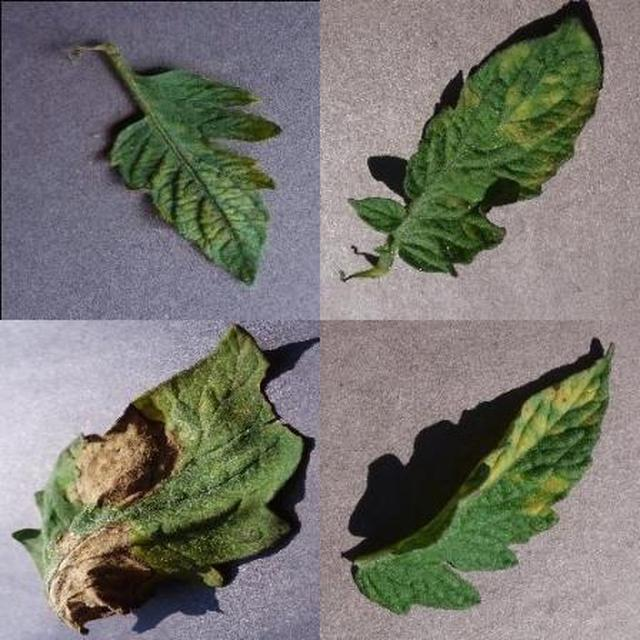Mosaic Virus Leaf: (227, 209, 640, 640)
